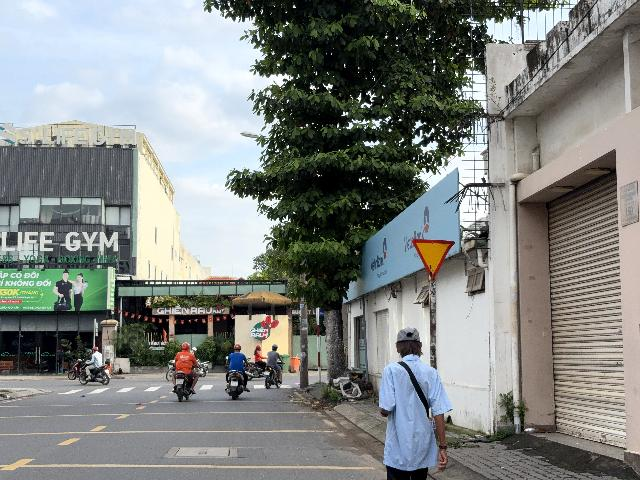giao-nhau-voi-duong-uu-tien: (412, 238, 455, 279)
